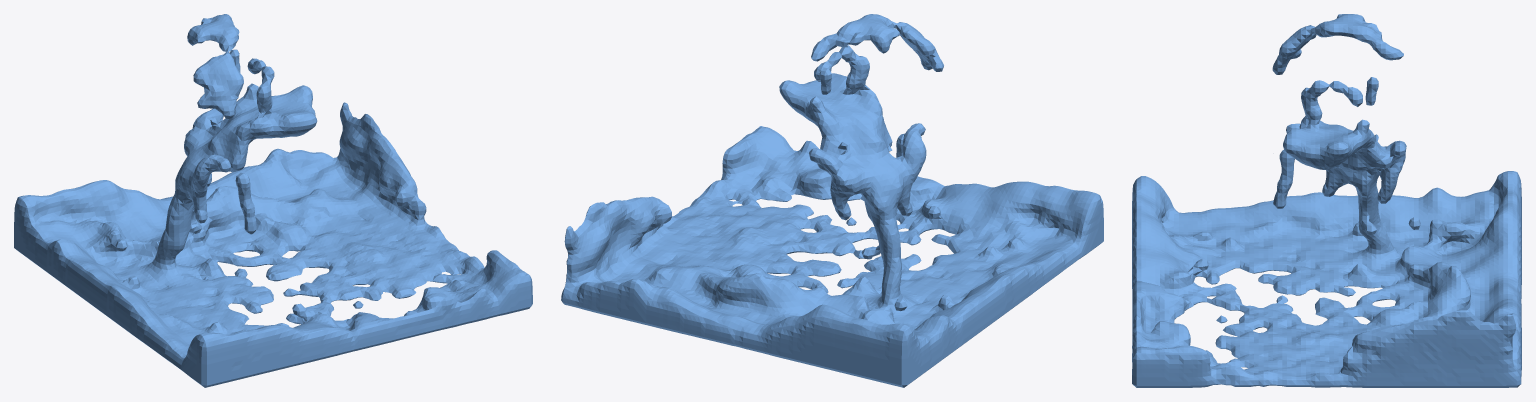
Rendered from water_0085.glb.
3 views of the same model, side by side, from view 1: azimuth 30°, elevation 25°; view 2: azimuth 150°, elevation 25°; view 3: azimuth 270°, elevation 25° (orthographic). The views are drawn at different scales.
Parts seen in each view (by area): view 1: Water_0085; view 2: Water_0085; view 3: Water_0085.
Boxes of the visible parts, x1,y1,x2,y2 form: Water_0085: (14,14,532,387); Water_0085: (561,14,1103,387); Water_0085: (1132,14,1521,387).
Bounding box in the file's own units: 4.83 × 3.62 × 4.83.
